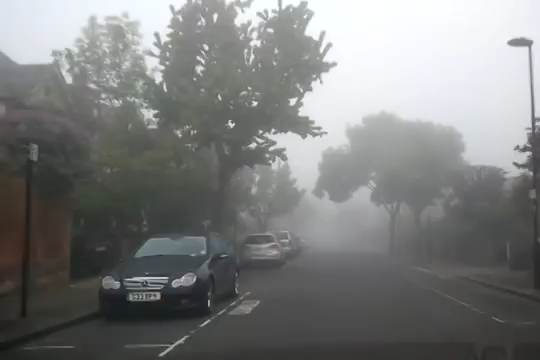car: (99, 233, 241, 318), (238, 232, 286, 269), (262, 229, 301, 258)
